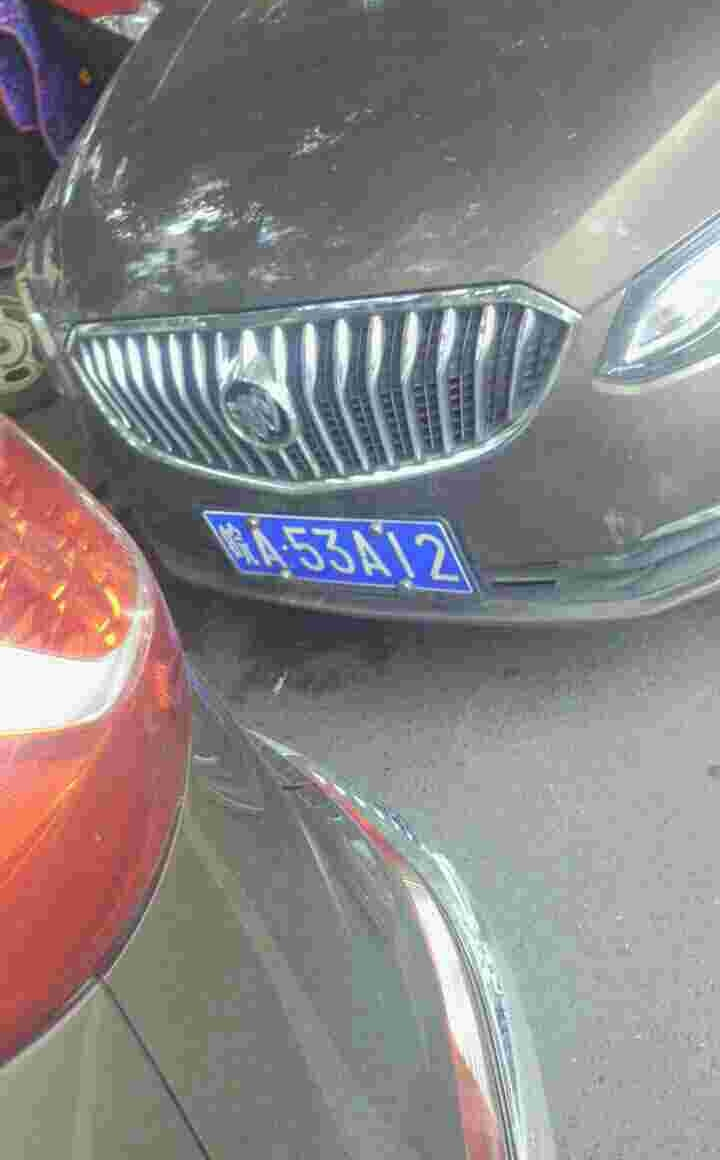plate: (191, 503, 482, 599)
